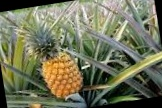Pineapple: (16, 16, 84, 98)
